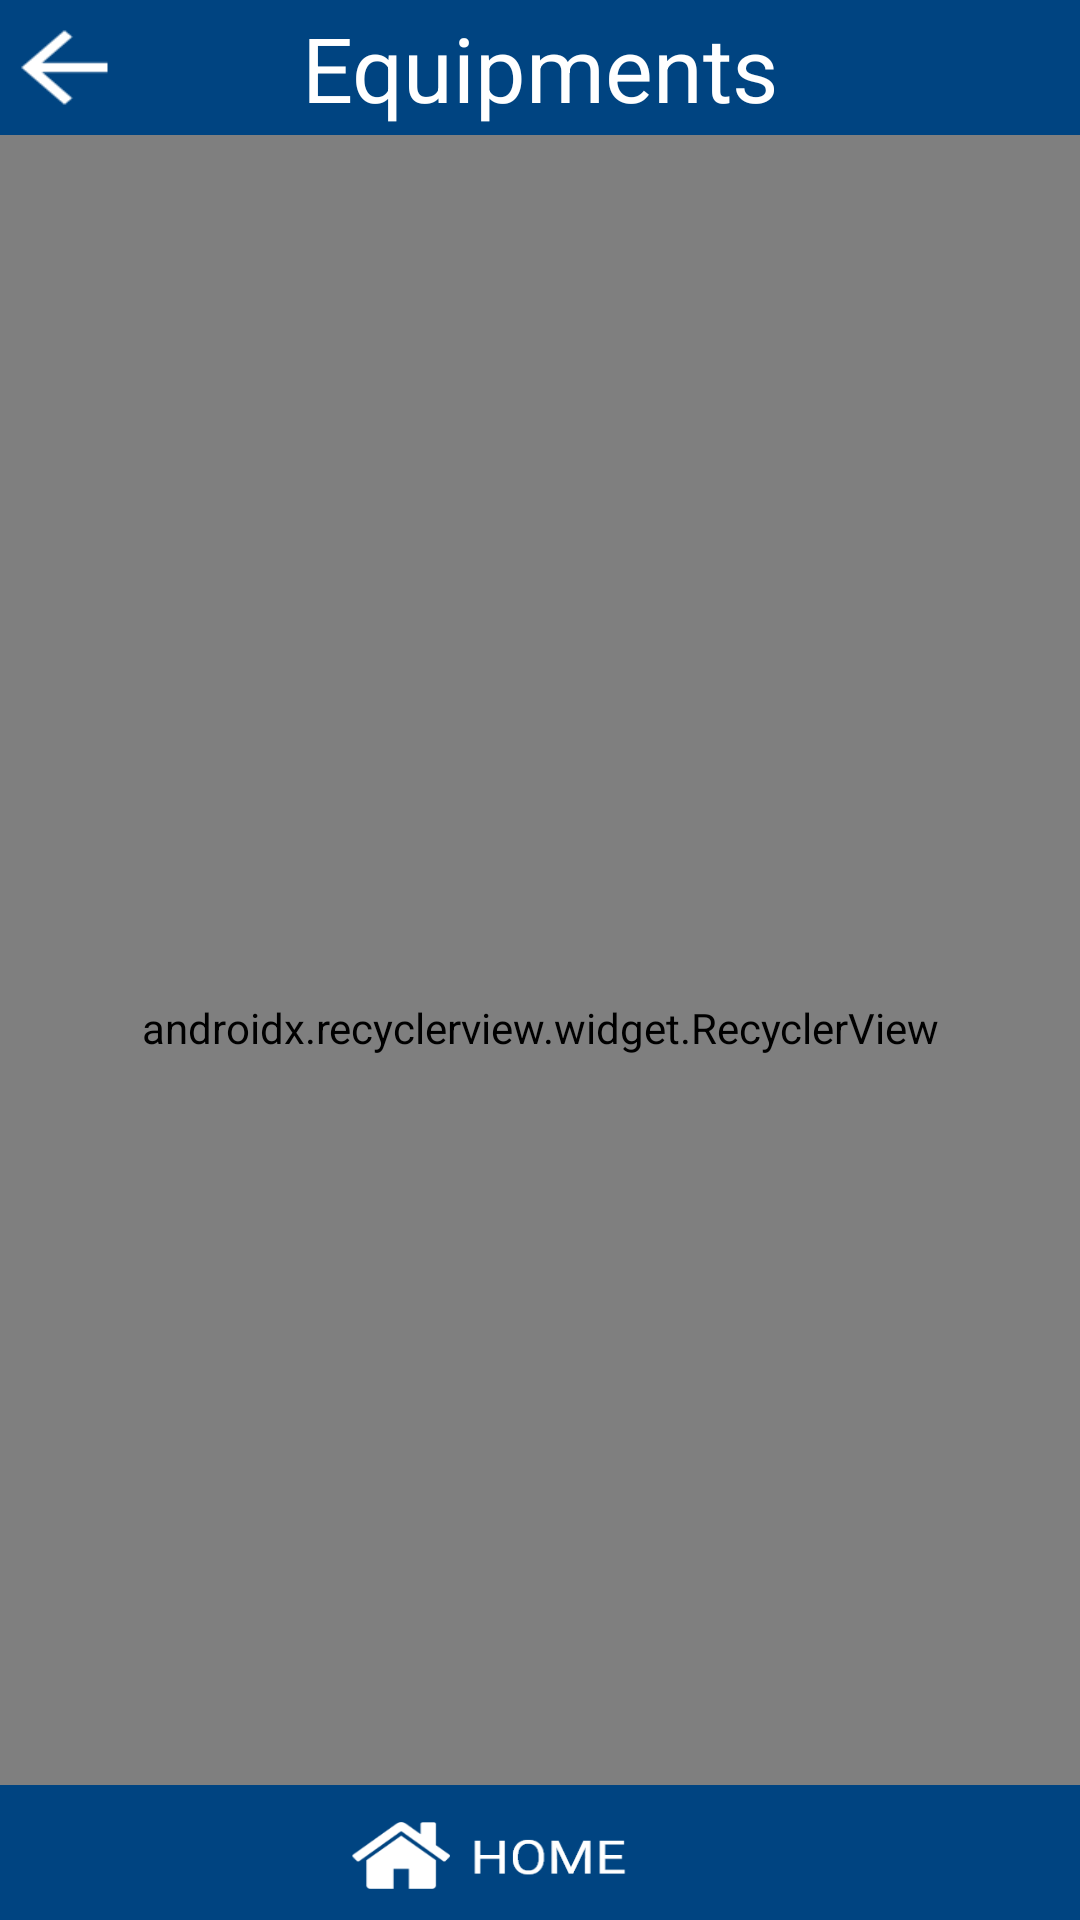

Icon click points for this 1080px x 1920px phone screenshot, format (x,y):
back: (64,67)
